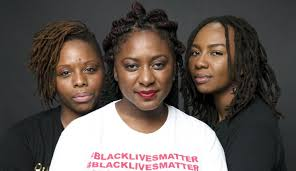black_female: (112, 24, 179, 114)
